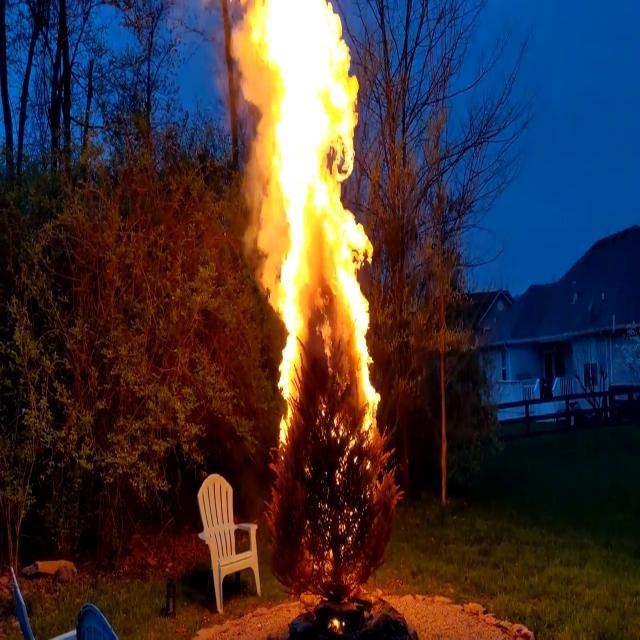Fire: (229, 0, 384, 461)
